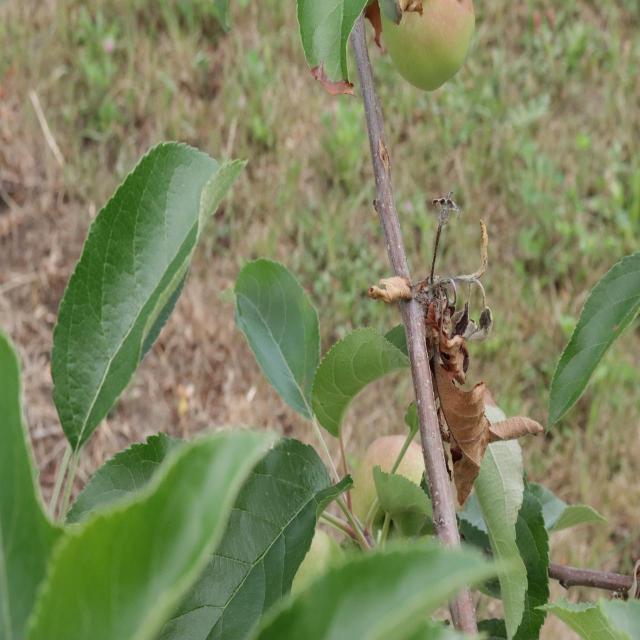-FireBlight-: (369, 269, 530, 477)
